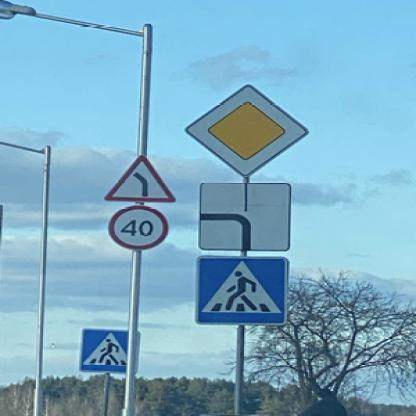crosswalk: (193, 254, 288, 326), (76, 326, 138, 372)
speedlimit: (105, 205, 168, 249)
